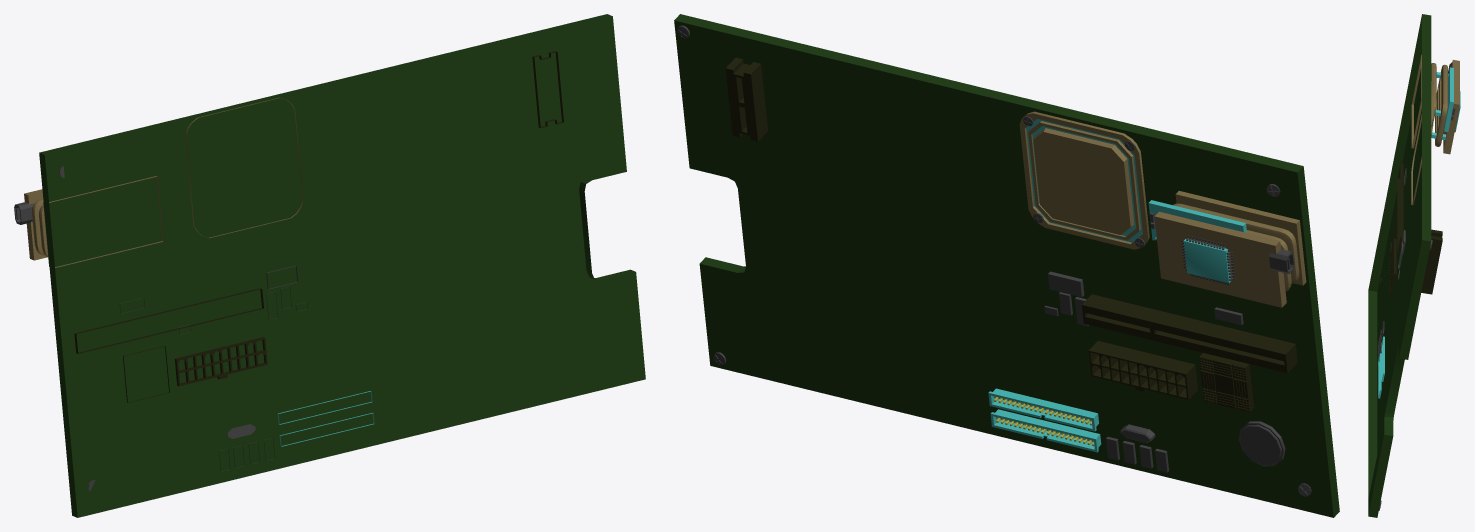
The model's file is SM_LeftPlate.fbx.
The picture shows the model from 3 angles, left to right: view 1: azimuth 30°, elevation 25°; view 2: azimuth 150°, elevation 25°; view 3: azimuth 270°, elevation 25°; orthographic projection. The views are drawn at different scales.
Visible parts, largest first — view 1: Plane014; view 2: Plane014; view 3: Plane014.
Part boxes in pixels (x1,y1,x2,y2): Plane014: (14,14,645,517); Plane014: (674,14,1339,517); Plane014: (1368,14,1460,517).
Bounding box in the file's own units: 4.1 × 2.32 × 0.6994.
